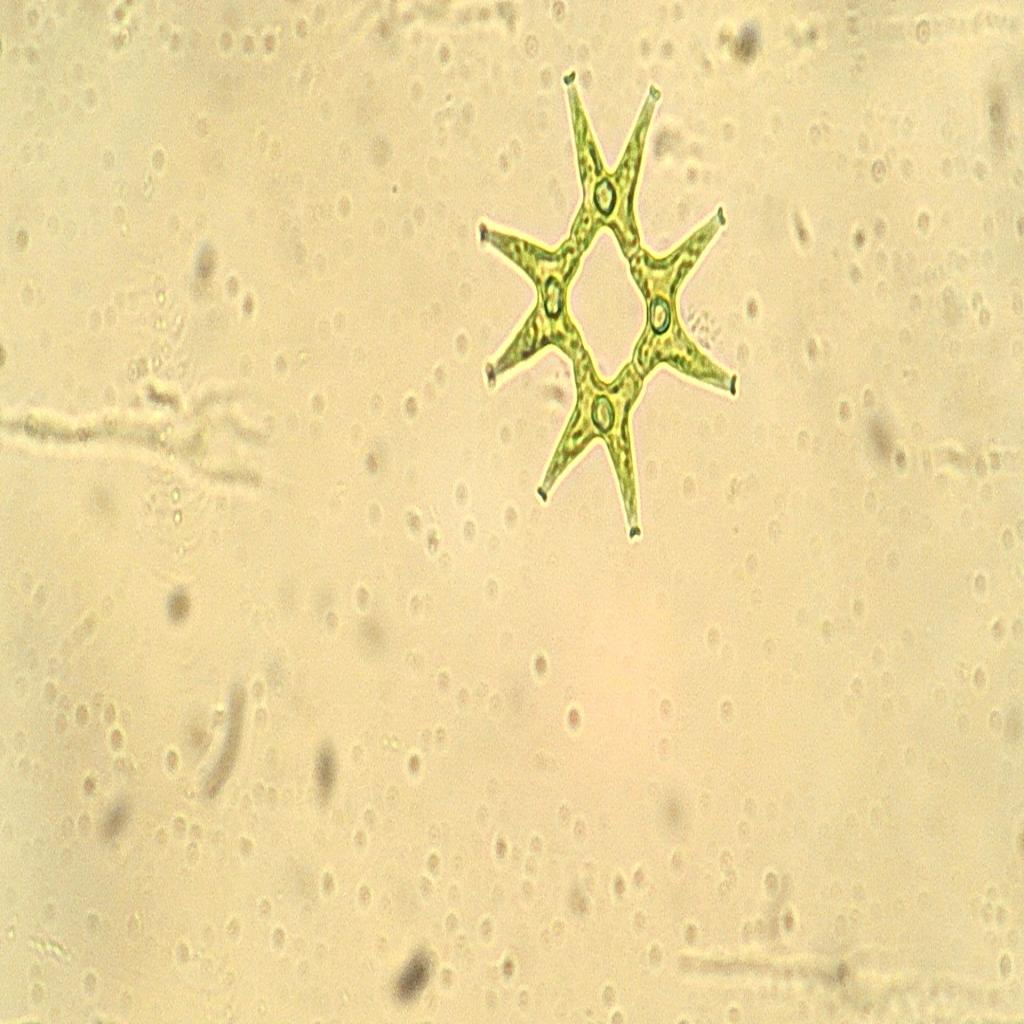Pediastrum_CO: (466, 45, 756, 573)
